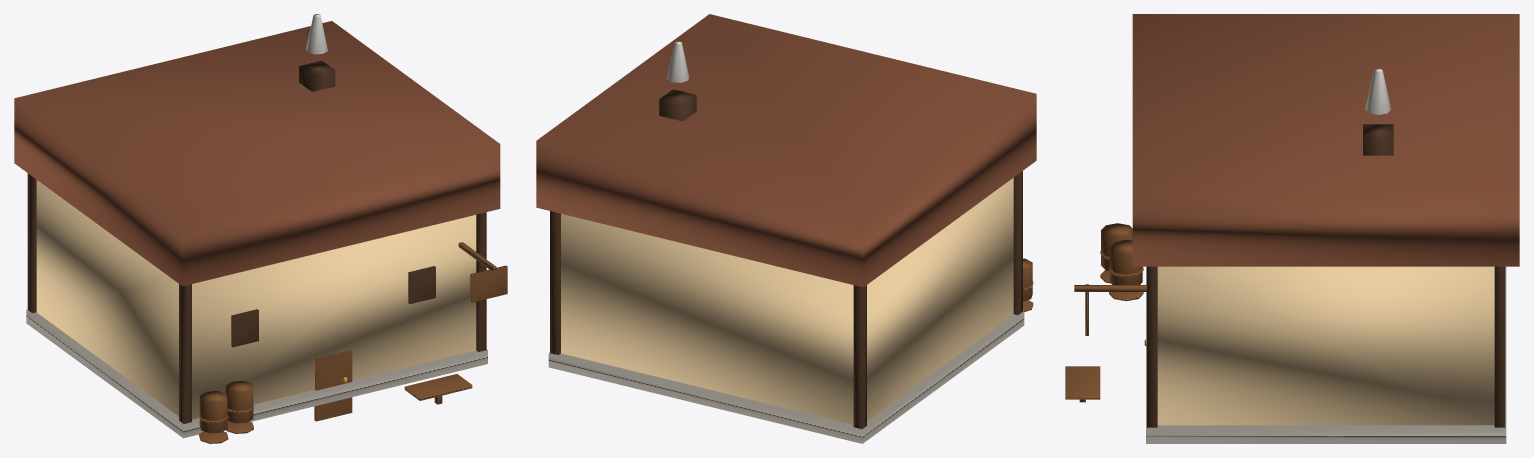
File: tavern.glb
3 views of the same model, side by side, from view 1: azimuth 30°, elevation 25°; view 2: azimuth 150°, elevation 25°; view 3: azimuth 270°, elevation 25° (orthographic). The views are drawn at different scales.
Parts seen in each view (by area): view 1: roof, walls, foundation, corners, door, barrel1, barrel2, sign_board, bench_top, window_left, window_right, chimney (+1 smaller); view 2: roof, walls, foundation, corners, chimney, smoke, barrel1; view 3: roof, walls, foundation, corners, barrel2, bench_top, chimney, barrel1, smoke, sign_post.
Boxes of the visible parts, x1=… form: roof: x1=14, y1=21, x2=500, y2=286; walls: x1=36, y1=180, x2=476, y2=419; foundation: x1=26, y1=309, x2=487, y2=438; corners: x1=27, y1=173, x2=486, y2=423; door: x1=314, y1=350, x2=352, y2=421; barrel1: x1=199, y1=391, x2=228, y2=443; barrel2: x1=225, y1=381, x2=253, y2=433; sign_board: x1=470, y1=265, x2=507, y2=302; bench_top: x1=404, y1=374, x2=472, y2=400; window_left: x1=231, y1=309, x2=258, y2=347; window_right: x1=408, y1=266, x2=435, y2=304; chimney: x1=299, y1=60, x2=335, y2=91; roof: x1=536, y1=14, x2=1036, y2=287; walls: x1=561, y1=178, x2=1013, y2=424; foundation: x1=548, y1=311, x2=1024, y2=443; corners: x1=550, y1=171, x2=1022, y2=428; chimney: x1=659, y1=89, x2=696, y2=121; smoke: x1=667, y1=41, x2=689, y2=82; barrel1: x1=1023, y1=258, x2=1033, y2=311; roof: x1=1132, y1=14, x2=1519, y2=266; walls: x1=1157, y1=266, x2=1494, y2=425; foundation: x1=1146, y1=266, x2=1506, y2=443; corners: x1=1147, y1=266, x2=1505, y2=427; barrel2: x1=1109, y1=239, x2=1143, y2=301; bench_top: x1=1065, y1=366, x2=1100, y2=399; chimney: x1=1363, y1=124, x2=1393, y2=155; barrel1: x1=1100, y1=223, x2=1132, y2=283; smoke: x1=1365, y1=68, x2=1391, y2=114; sign_post: x1=1074, y1=285, x2=1146, y2=291.
Size of the model in its own units: 9.7 by 9 by 10.45.
